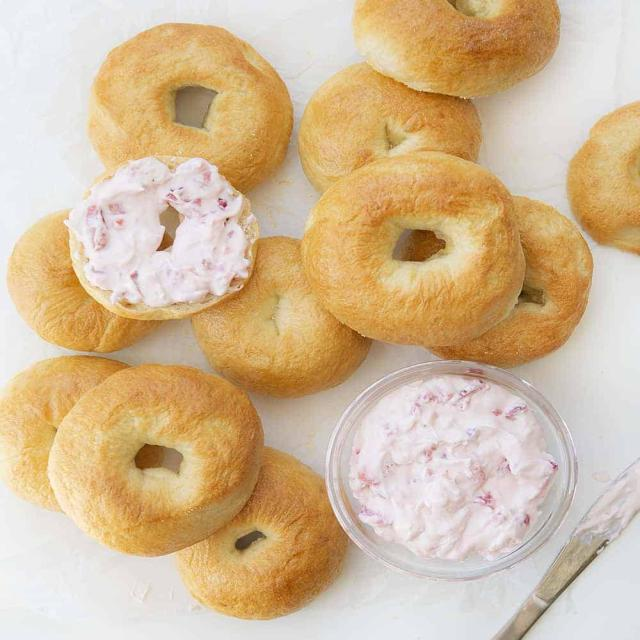Bagel: (302, 151, 525, 346), (48, 364, 263, 556), (88, 24, 293, 191), (175, 448, 349, 620), (191, 236, 370, 398), (430, 196, 594, 368), (298, 62, 481, 192), (352, 0, 560, 99)
